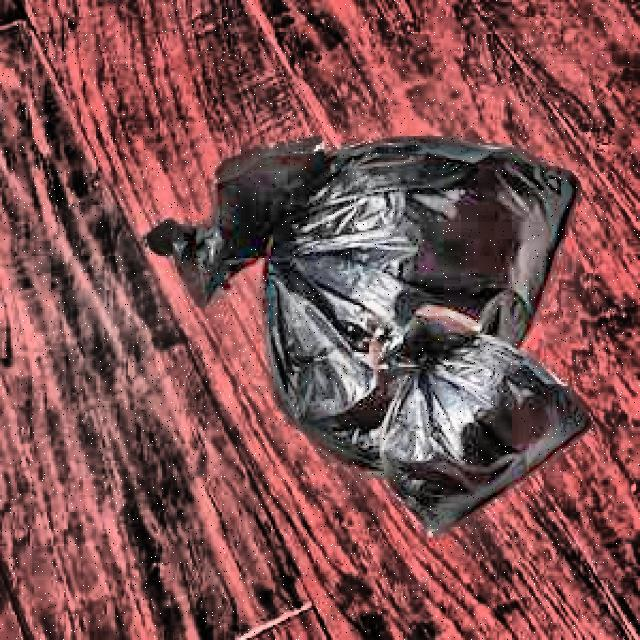Trashbag: (142, 130, 597, 544)
